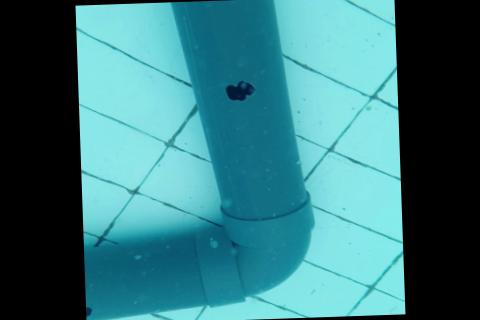kebocoran: (223, 81, 256, 102), (85, 304, 93, 317)
